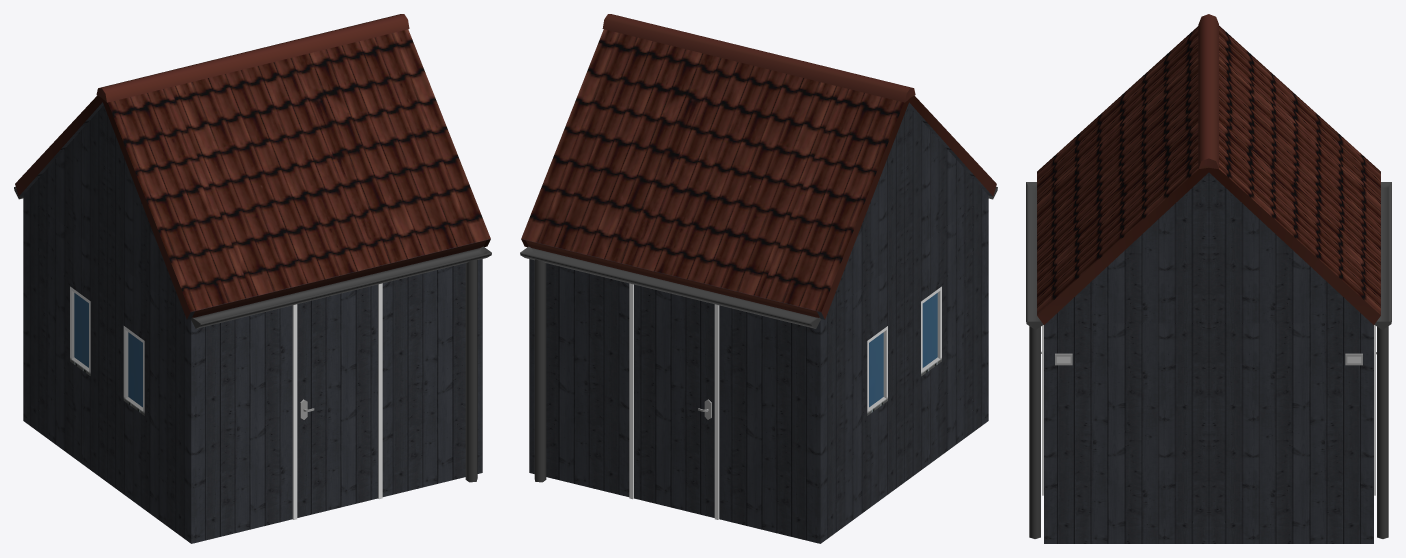
The model's file is schuur klein deel 4.fbx.
3 views of the same model, side by side, from view 1: azimuth 30°, elevation 25°; view 2: azimuth 150°, elevation 25°; view 3: azimuth 270°, elevation 25° (orthographic). The views are drawn at different scales.
Parts seen in each view (by area): view 1: polySurface66; view 2: polySurface66; view 3: polySurface66.
Part boxes in pixels (<box>): polySurface66: <box>14,14,491,543</box>; polySurface66: <box>520,14,997,543</box>; polySurface66: <box>1026,14,1391,543</box>.
Bounding box in the file's own units: 3.11 × 3.89 × 3.32.
